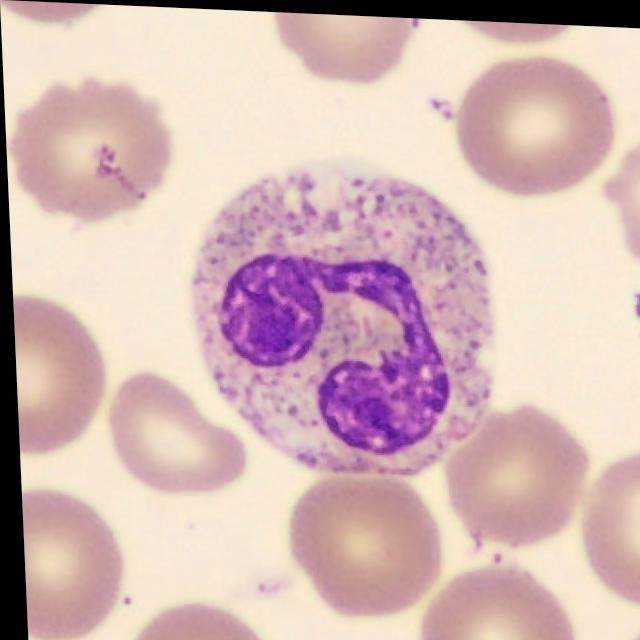Neutrofilo segmentado: (186, 159, 494, 474)
